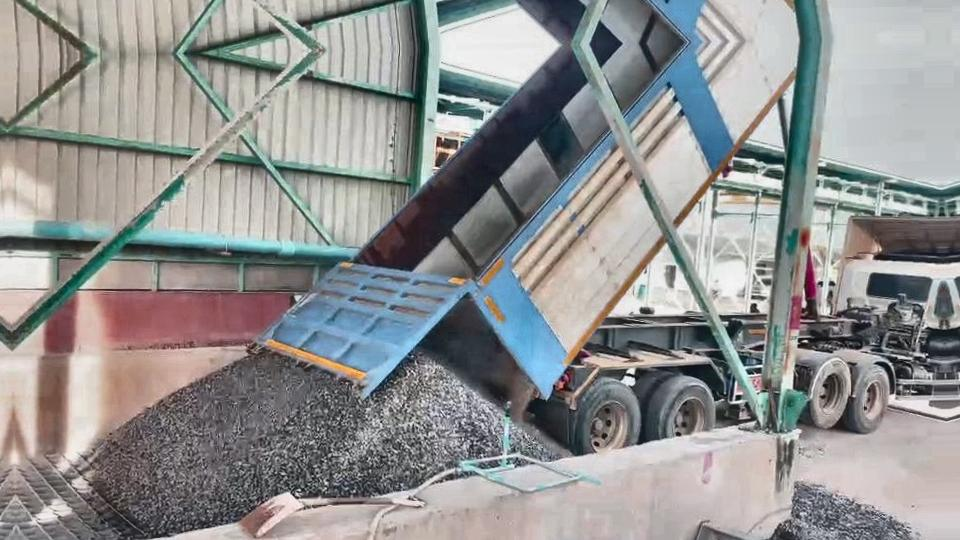gravel: (89, 352, 502, 535), (776, 482, 916, 540), (511, 426, 563, 459)
